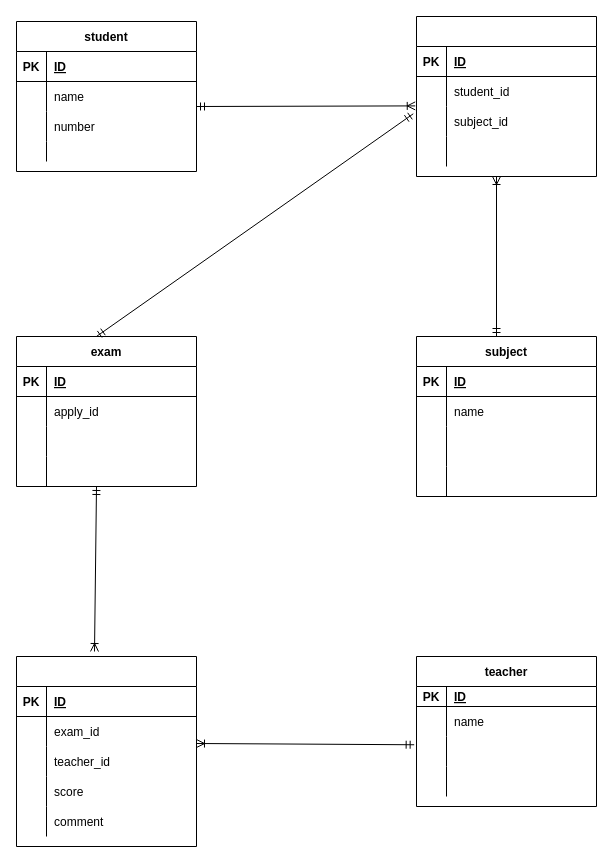
Some shapes in this 613 by 863 pixel diagram are drawn without their labels. Here are the shapes that lost their labels. From the top down, the box of each, then its label:
(416, 16, 596, 176): apply
(16, 656, 196, 846): result
